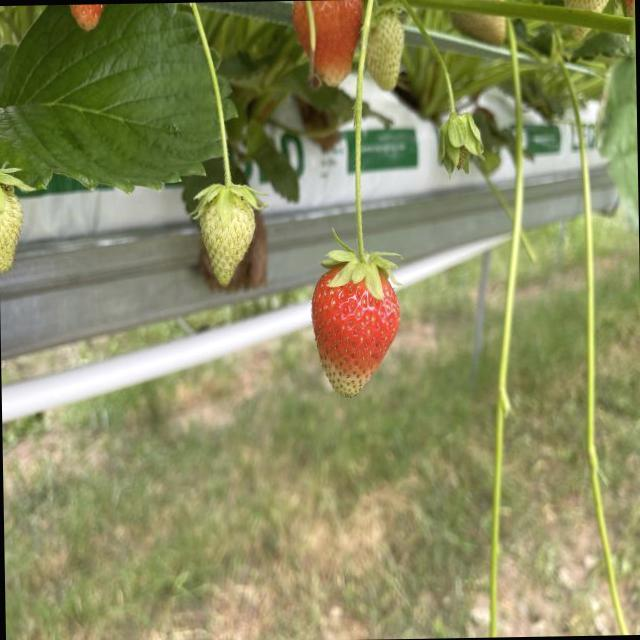stem: (321, 2, 394, 298), (189, 2, 262, 212)
strawberryNR: (198, 193, 253, 285), (0, 192, 21, 271)
strawberryR: (311, 270, 399, 395), (68, 4, 102, 28)
